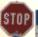Stop sign: (0, 0, 37, 36)
